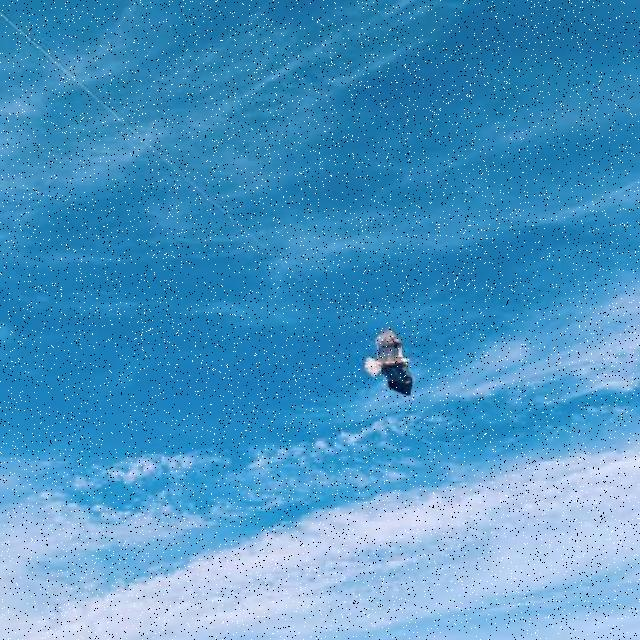bird: (361, 326, 417, 397)
